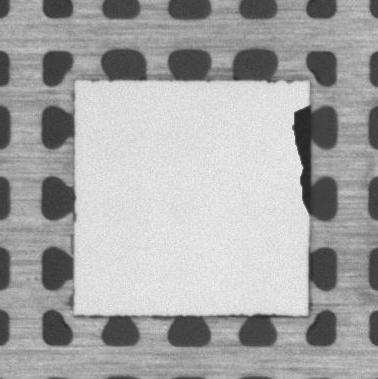DIE_BROKEN: (290, 102, 313, 216)
